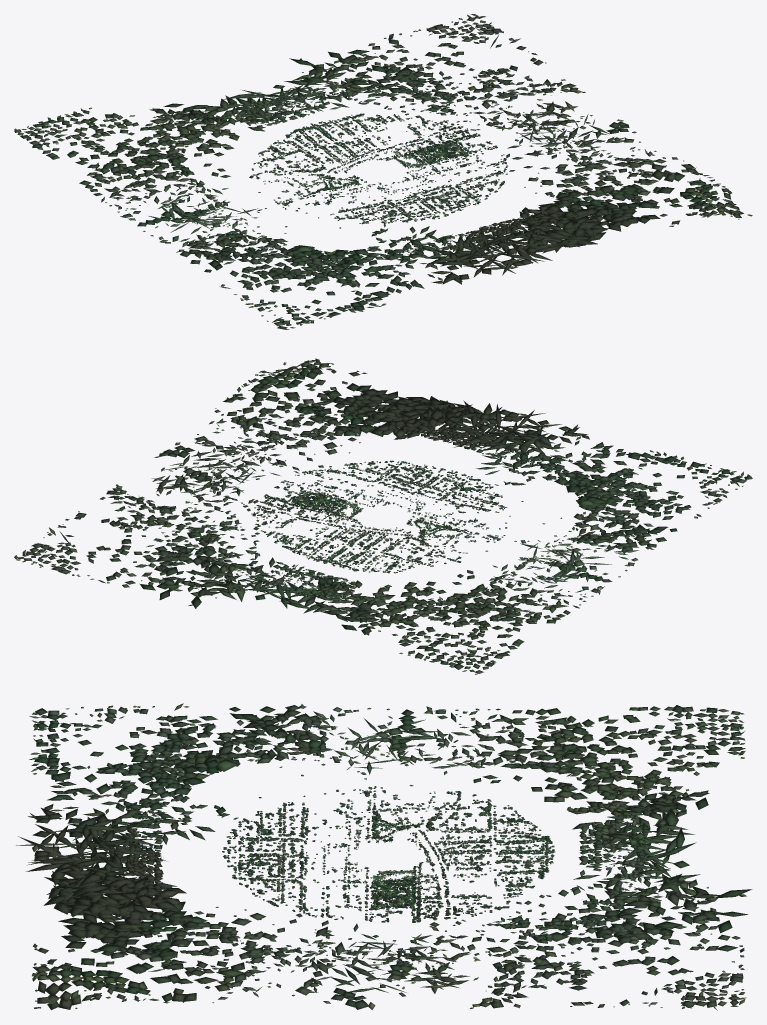
Rendered from subiaco_backdrop_part2.glb.
The picture shows the model from 3 angles, top to bottom: view 1: azimuth 30°, elevation 25°; view 2: azimuth 150°, elevation 25°; view 3: azimuth 270°, elevation 25°; orthographic projection. The views are drawn at different scales.
Parts seen in each view (by area): view 1: bg_trees_joined_s10, bg_trees_joined_s09, bg_trees_joined_s14, bg_trees_joined_s13, bg_trees_joined_s15, bg_trees_joined_s11, bg_trees_joined_s08, bg_trees_joined_s12, bg_trees_joined_s04, bg_trees_joined_s06, bg_trees_joined_s02, bg_trees_joined_s01 (+4 smaller); view 2: bg_trees_joined_s10, bg_trees_joined_s09, bg_trees_joined_s13, bg_trees_joined_s14, bg_trees_joined_s11, bg_trees_joined_s15, bg_trees_joined_s08, bg_trees_joined_s12, bg_trees_joined_s04, bg_trees_joined_s06, bg_trees_joined_s02, bg_trees_joined_s01 (+4 smaller); view 3: bg_trees_joined_s10, bg_trees_joined_s09, bg_trees_joined_s13, bg_trees_joined_s11, bg_trees_joined_s14, bg_trees_joined_s15, bg_trees_joined_s08, bg_trees_joined_s12, bg_trees_joined_s06, bg_trees_joined_s04, bg_trees_joined_s02, bg_trees_joined_s01 (+4 smaller).
Part boxes in pixels (x1=…): bg_trees_joined_s10: x1=446, y1=183, x2=752, y2=266; bg_trees_joined_s09: x1=280, y1=217, x2=517, y2=329; bg_trees_joined_s14: x1=14, y1=90, x2=306, y2=152; bg_trees_joined_s13: x1=273, y1=14, x2=479, y2=115; bg_trees_joined_s15: x1=15, y1=130, x2=260, y2=228; bg_trees_joined_s11: x1=504, y1=119, x2=749, y2=215; bg_trees_joined_s08: x1=143, y1=202, x2=340, y2=329; bg_trees_joined_s12: x1=415, y1=16, x2=592, y2=134; bg_trees_joined_s04: x1=387, y1=119, x2=480, y2=165; bg_trees_joined_s06: x1=258, y1=123, x2=365, y2=167; bg_trees_joined_s02: x1=397, y1=175, x2=503, y2=216; bg_trees_joined_s01: x1=349, y1=182, x2=439, y2=223; bg_trees_joined_s10: x1=285, y1=358, x2=519, y2=461; bg_trees_joined_s09: x1=452, y1=410, x2=750, y2=496; bg_trees_joined_s13: x1=16, y1=530, x2=308, y2=608; bg_trees_joined_s14: x1=273, y1=562, x2=483, y2=674; bg_trees_joined_s11: x1=154, y1=362, x2=341, y2=483; bg_trees_joined_s15: x1=426, y1=550, x2=619, y2=671; bg_trees_joined_s08: x1=498, y1=476, x2=752, y2=576; bg_trees_joined_s12: x1=14, y1=466, x2=264, y2=559; bg_trees_joined_s04: x1=256, y1=487, x2=360, y2=527; bg_trees_joined_s06: x1=323, y1=527, x2=414, y2=573; bg_trees_joined_s02: x1=351, y1=460, x2=445, y2=505; bg_trees_joined_s01: x1=400, y1=470, x2=502, y2=514; bg_trees_joined_s10: x1=26, y1=844, x2=270, y2=1008; bg_trees_joined_s09: x1=16, y1=711, x2=258, y2=854; bg_trees_joined_s13: x1=507, y1=852, x2=752, y2=1004; bg_trees_joined_s11: x1=34, y1=903, x2=396, y2=1009; bg_trees_joined_s14: x1=523, y1=711, x2=745, y2=860; bg_trees_joined_s15: x1=385, y1=705, x2=735, y2=794; bg_trees_joined_s08: x1=35, y1=703, x2=395, y2=798; bg_trees_joined_s12: x1=384, y1=906, x2=738, y2=1010; bg_trees_joined_s06: x1=415, y1=805, x2=554, y2=857; bg_trees_joined_s04: x1=388, y1=866, x2=497, y2=922; bg_trees_joined_s02: x1=223, y1=854, x2=357, y2=903; bg_trees_joined_s01: x1=223, y1=807, x2=358, y2=856.
Size of the model in its own units: 3037 by 108 by 3122.
1 material, 1 textured.
